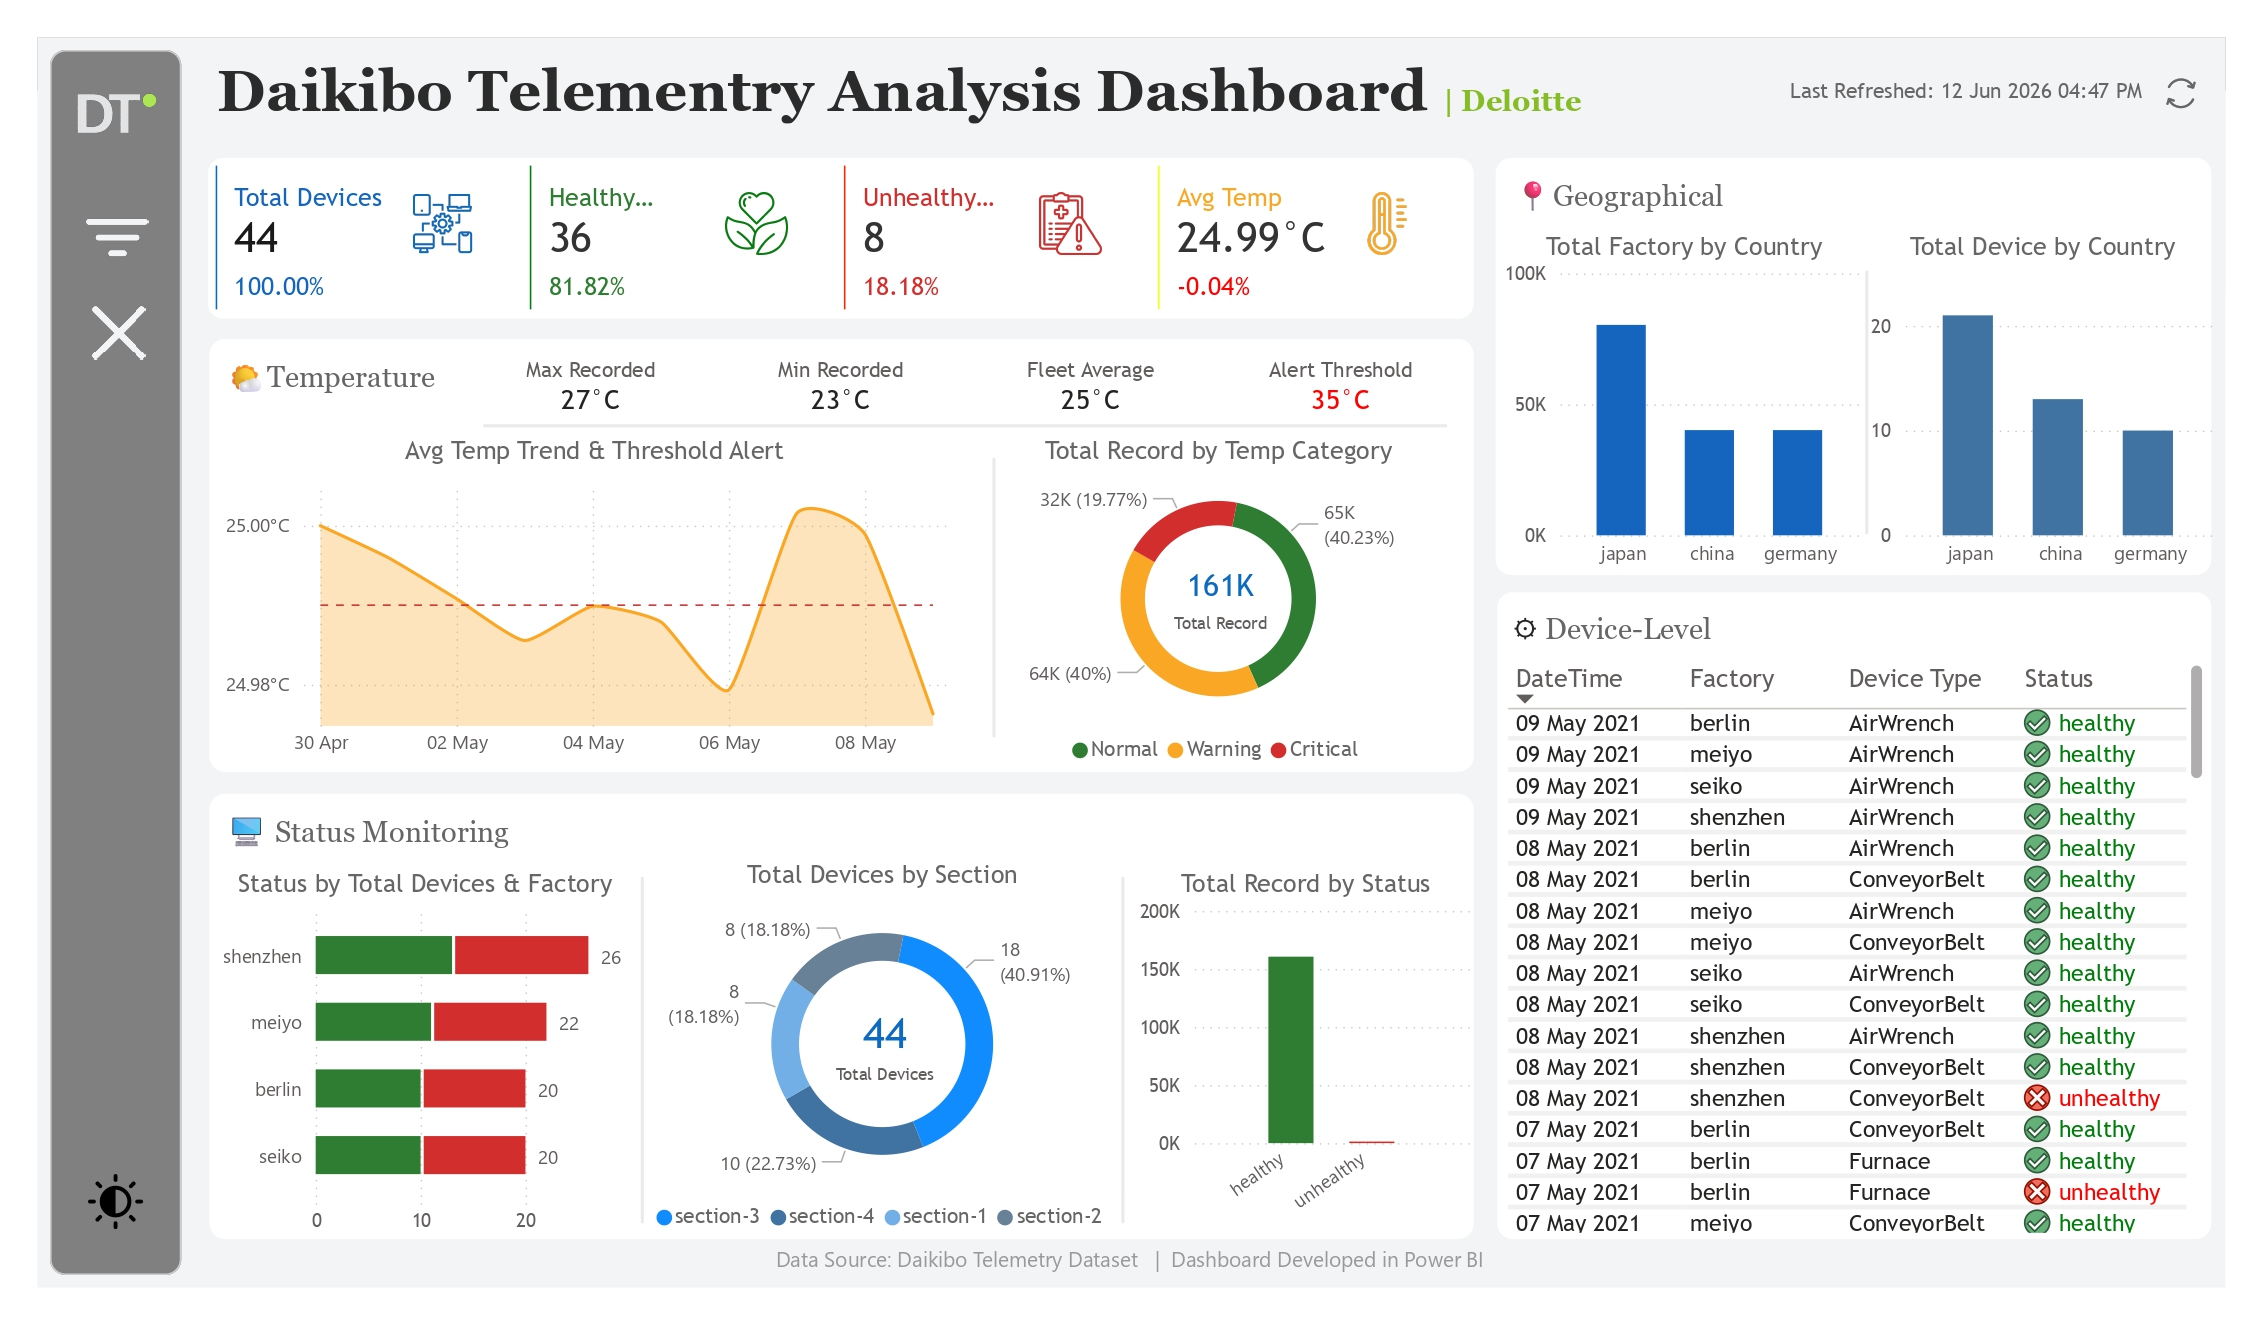

This screenshot's page, from the dashboard's own definition file:
{"tool":"powerbi","page":{"name":"Dashboard","canvas":[1400,800],"ordinal":0},"visuals":[{"type":"shape","box":[933.8,355.4,457.5,413.4],"z":0},{"type":"shape","box":[110,192.5,808.8,277],"z":1000},{"type":"shape","box":[8.3,8.3,83.3,783.3],"z":2000},{"type":"shape","box":[109.5,77,809.5,102.7],"z":3000},{"type":"textbox","box":[110,8.3,918.3,52],"z":4000},{"type":"shape","box":[932.6,76.9,458.7,267.2],"z":5000},{"type":"shape","box":[110,484.3,808.6,284.3],"z":6000},{"type":"textbox","box":[115.7,198.6,152.9,37.1],"z":7000},{"type":"textbox","box":[115.7,490,200,35.7],"z":8000},{"type":"textbox","box":[938.9,83.2,160.1,35.3],"z":9000},{"type":"textbox","box":[938.9,360.4,147.4,35.3],"z":10000},{"type":"image","box":[0,0,99,99],"z":11000},{"type":"cardVisual","fields":{"Data":["daikibo-telemetry-data.Total Devices","daikibo-telemetry-data.Healthy Devices","daikibo-telemetry-data.Unhealthy Devices","daikibo-telemetry-data.Avg Temperature"]},"box":[109.5,77,791.9,102.7],"z":12000},{"type":"cardVisual","fields":{"Data":["daikibo-telemetry-data.Max Recorded","daikibo-telemetry-data.Min Recorded","daikibo-telemetry-data.Fleet Average","daikibo-telemetry-data.Alert Threshold"]},"box":[268.6,192.9,650,55.7],"z":13000},{"type":"tableEx","fields":{"Values":["daikibo-telemetry-data.DateTime","daikibo-telemetry-data.Factory","daikibo-telemetry-data.Device Type","daikibo-telemetry-data.Status"]},"box":[935.1,395.7,456.2,374.3],"z":14000},{"type":"columnChart","title":"Total Factory by Country","fields":{"Category":["daikibo-telemetry-data.Country"],"Y":["CountNonNull(daikibo-telemetry-data.Factory)"]},"box":[933.8,118.5,234.4,225.6],"z":15000},{"type":"areaChart","title":"Avg Temp Trend & Threshold Alert","fields":{"Category":["daikibo-telemetry-data.DateTime"],"Y2":["daikibo-telemetry-data.Alert Threshold"],"Y":["daikibo-telemetry-data.Avg Temperature"]},"box":[115,255,478.3,215],"z":16000},{"type":"donutChart","title":"Total Record by Temp Category","fields":{"Y":["daikibo-telemetry-data.Device Count"],"Category":["daikibo-telemetry-data.Temp Category"]},"box":[593.3,255,325,215],"z":17000},{"type":"card","fields":{"Values":["daikibo-telemetry-data.Device Count"]},"box":[711.7,328.3,90,60],"z":18000},{"type":"shape","box":[605.6,269,12.7,178.9],"z":19000},{"type":"shape","box":[285,241.7,616.7,13.3],"z":20000},{"type":"barChart","title":"Status by Total Devices & Factory","fields":{"Category":["daikibo-telemetry-data.Factory"],"Y":["daikibo-telemetry-data.Total Devices"],"Series":["daikibo-telemetry-data.Status"]},"box":[109.6,525.5,271,243.2],"z":21000},{"type":"shape","box":[380.6,536.9,12.6,221.8],"z":22000},{"type":"columnChart","title":"Total Device by Country","fields":{"Category":["daikibo-telemetry-data.Country"],"Y":["daikibo-telemetry-data.Total Devices"]},"box":[1168.2,118.5,224.3,225.6],"z":23000},{"type":"shape","box":[1164.5,148.7,12.6,168.9],"z":24000},{"type":"donutChart","fields":{"Category":["daikibo-telemetry-data.Section","daikibo-telemetry-data.Device Type"],"Y":["daikibo-telemetry-data.Total Devices"]},"box":[393.2,525.5,294.9,243.2],"z":25000},{"type":"card","fields":{"Values":["daikibo-telemetry-data.Total Devices"]},"box":[496.7,611.7,90,63.3],"z":26000},{"type":"shape","box":[688.2,537.4,12.7,221.8],"z":27000},{"type":"columnChart","title":"Total Record by Status","fields":{"Category":["daikibo-telemetry-data.Status"],"Y":["daikibo-telemetry-data.Total Records"]},"box":[699.6,526,218,242.1],"z":28000},{"type":"textbox","box":[460,768.3,478.3,31.7],"z":29000},{"type":"card","fields":{"Values":["daikibo-telemetry-data.Last Refresh Display"]},"box":[1108.3,21.7,251.7,26.7],"z":30000},{"type":"image","box":[1355,18.3,33.3,33.3],"z":31000},{"type":"image","box":[29.7,166.2,44.6,44.6],"z":31002},{"type":"image","box":[25.7,102.7,50,50],"z":31003},{"type":"image","box":[25.7,717.6,50,50],"z":31004}]}

Visuals, with their boxes on the page's 1400x800 design canvas (x1, y1, x2, y2). These are canvas units, not pixel positions in the 2263x1325 screenshot, which may show the page scaled, cropped or inside an application window:
shape: left=934, top=355, right=1391, bottom=769
shape: left=110, top=192, right=919, bottom=470
shape: left=8, top=8, right=92, bottom=792
shape: left=110, top=77, right=919, bottom=180
textbox: left=110, top=8, right=1028, bottom=60
shape: left=933, top=77, right=1391, bottom=344
shape: left=110, top=484, right=919, bottom=769
textbox: left=116, top=199, right=269, bottom=236
textbox: left=116, top=490, right=316, bottom=526
textbox: left=939, top=83, right=1099, bottom=118
textbox: left=939, top=360, right=1086, bottom=396
image: left=0, top=0, right=99, bottom=99
cardVisual - daikibo-telemetry-data.Total Devices x daikibo-telemetry-data.Healthy Devices: left=110, top=77, right=901, bottom=180
cardVisual - daikibo-telemetry-data.Max Recorded x daikibo-telemetry-data.Min Recorded: left=269, top=193, right=919, bottom=249
tableEx - daikibo-telemetry-data.DateTime x daikibo-telemetry-data.Factory: left=935, top=396, right=1391, bottom=770
"Total Factory by Country" columnChart: left=934, top=118, right=1168, bottom=344
"Avg Temp Trend & Threshold Alert" areaChart: left=115, top=255, right=593, bottom=470
"Total Record by Temp Category" donutChart: left=593, top=255, right=918, bottom=470
card - daikibo-telemetry-data.Device Count: left=712, top=328, right=802, bottom=388
shape: left=606, top=269, right=618, bottom=448
shape: left=285, top=242, right=902, bottom=255
"Status by Total Devices & Factory" barChart: left=110, top=526, right=381, bottom=769
shape: left=381, top=537, right=393, bottom=759
"Total Device by Country" columnChart: left=1168, top=118, right=1392, bottom=344
shape: left=1164, top=149, right=1177, bottom=318
donutChart - daikibo-telemetry-data.Section x daikibo-telemetry-data.Device Type: left=393, top=526, right=688, bottom=769
card - daikibo-telemetry-data.Total Devices: left=497, top=612, right=587, bottom=675
shape: left=688, top=537, right=701, bottom=759
"Total Record by Status" columnChart: left=700, top=526, right=918, bottom=768
textbox: left=460, top=768, right=938, bottom=800
card - daikibo-telemetry-data.Last Refresh Display: left=1108, top=22, right=1360, bottom=48
image: left=1355, top=18, right=1388, bottom=52
image: left=30, top=166, right=74, bottom=211
image: left=26, top=103, right=76, bottom=153
image: left=26, top=718, right=76, bottom=768
